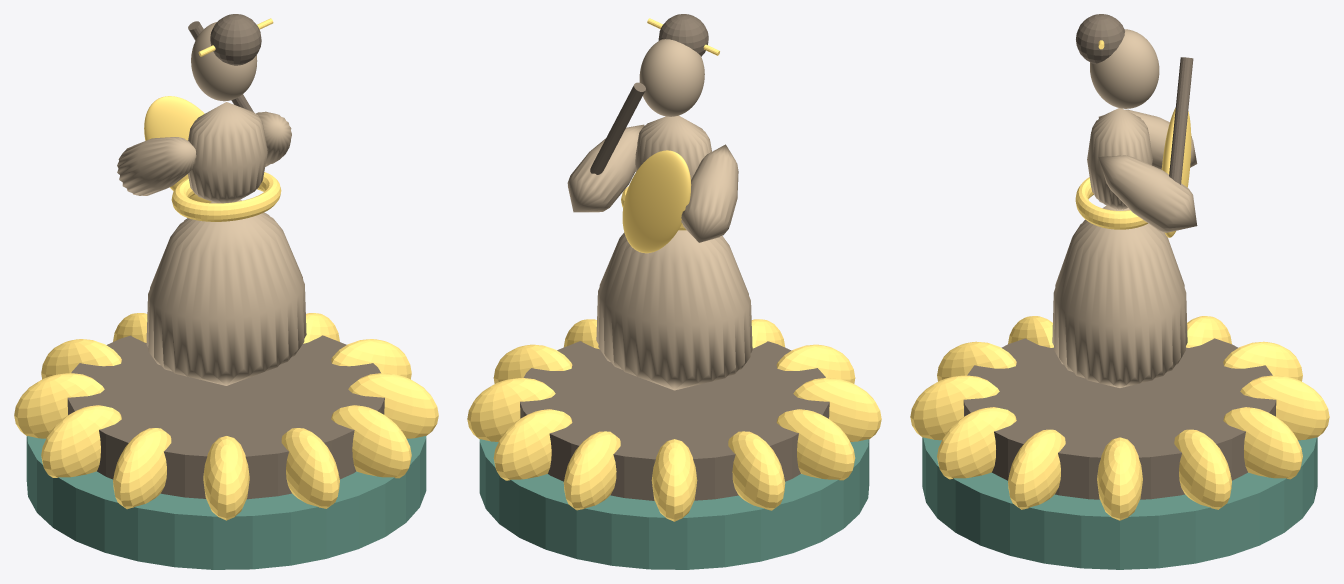
Rendered from thuy_kieu_statue.glb.
3 views of the same model, side by side, from view 1: azimuth 30°, elevation 25°; view 2: azimuth 150°, elevation 25°; view 3: azimuth 270°, elevation 25° (orthographic). The views are drawn at different scales.
Visible parts, largest first — view 1: Pedestal_LotusCore, Pedestal_Lower, Robe_Lower, Torso_Upper, Sphere.006, Sphere.010, Cone, Sphere.007, Sphere.009, Sphere.011, Sphere.005, Sphere.008 (+9 smaller); view 2: Pedestal_LotusCore, Pedestal_Lower, Robe_Lower, Pipa_Body, Head, Cone, Sphere.006, Sphere.002, Cone.001, Sphere.005, Sphere.003, Sphere.001 (+9 smaller); view 3: Pedestal_LotusCore, Pedestal_Lower, Robe_Lower, Cone.001, Head, Sphere.002, Sphere.010, Torso_Upper, Sphere.001, Sphere.011, Sphere.003, Sphere.009 (+10 smaller).
Boxes of the visible parts, box(x1,y1,x2,y2) form: Pedestal_LotusCore: box(67, 335, 384, 499); Pedestal_Lower: box(26, 436, 426, 569); Robe_Lower: box(146, 199, 306, 385); Torso_Upper: box(188, 102, 267, 203); Sphere.006: box(41, 405, 121, 477); Sphere.010: box(331, 405, 411, 478); Cone: box(117, 137, 196, 195); Sphere.007: box(113, 428, 171, 509); Sphere.009: box(281, 428, 339, 508); Sphere.011: box(348, 373, 438, 438); Sphere.005: box(14, 373, 104, 438); Sphere.008: box(203, 436, 249, 520); Pedestal_LotusCore: box(520, 341, 829, 500); Pedestal_Lower: box(479, 439, 869, 569); Robe_Lower: box(596, 230, 752, 390); Pipa_Body: box(622, 150, 691, 253); Head: box(639, 39, 704, 116); Cone: box(681, 144, 738, 242); Sphere.006: box(776, 409, 855, 480); Sphere.002: box(493, 409, 572, 480); Cone.001: box(567, 124, 644, 212); Sphere.005: box(728, 431, 785, 510); Sphere.003: box(563, 431, 620, 510); Sphere.001: box(467, 378, 555, 441); Pedestal_LotusCore: box(963, 338, 1276, 499); Pedestal_Lower: box(922, 437, 1317, 569); Robe_Lower: box(1052, 205, 1187, 387); Cone.001: box(1098, 155, 1197, 232); Head: box(1090, 29, 1159, 108); Sphere.002: box(1223, 407, 1302, 479); Sphere.010: box(937, 407, 1016, 479); Torso_Upper: box(1087, 108, 1152, 209); Sphere.001: box(1174, 429, 1231, 509); Sphere.011: box(1008, 429, 1065, 509); Sphere.003: box(1240, 375, 1329, 440); Sphere.009: box(910, 375, 999, 440).
Bounding box in the file's own units: 1.8 × 2.23 × 1.8.
